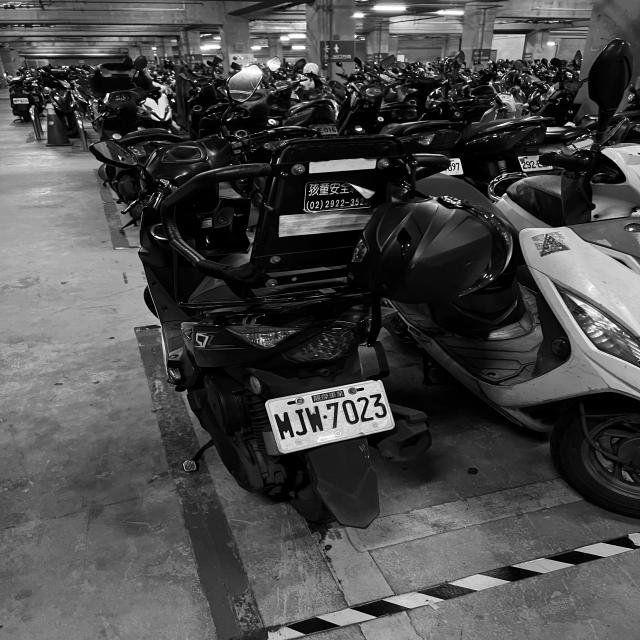-: (322, 414, 329, 420), (535, 163, 537, 165)
0: (338, 397, 361, 427)
2: (355, 395, 375, 424), (520, 161, 528, 170), (530, 160, 537, 169)
7: (325, 399, 342, 429), (455, 162, 460, 171)
9: (525, 160, 532, 169), (451, 163, 457, 170)
J: (289, 407, 312, 438)
M: (273, 410, 296, 441)
W: (304, 405, 326, 434)
plate: (268, 383, 395, 451), (368, 392, 389, 421)
